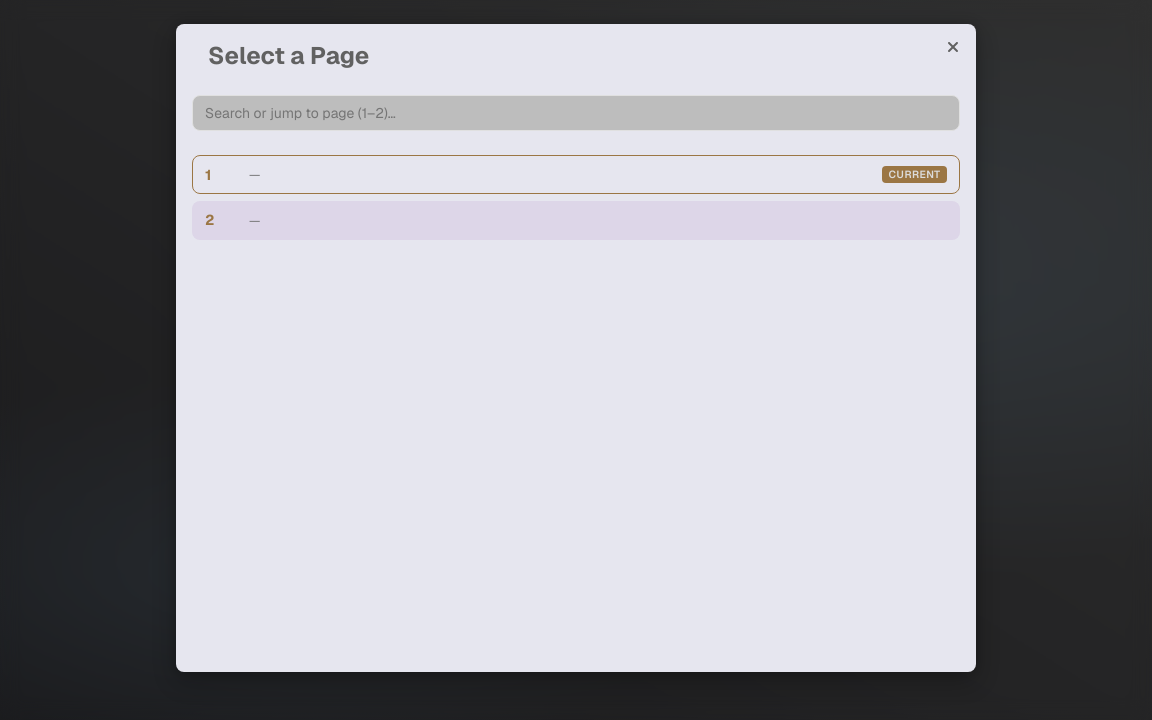
Test: SearcherModal › offers to jump to a page when the query is a valid page number
Expected: the list item with test id "searcher-page-1" is shown, left=192, top=155, right=960, bottom=194
Type "2" into the field with test id "searcher-input".
click(576, 113); type("2")  # box left=192, top=95, right=960, bottom=131
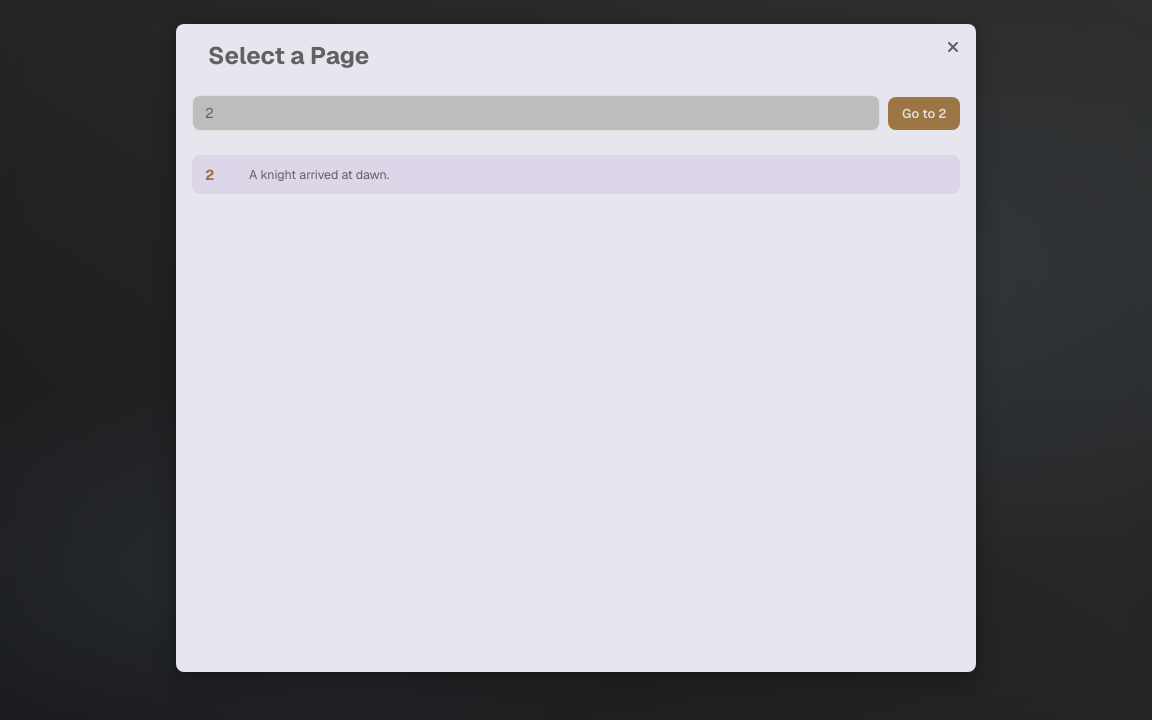
Result: the button with test id "searcher-jump-btn" is shown at left=888, top=96, right=960, bottom=130
